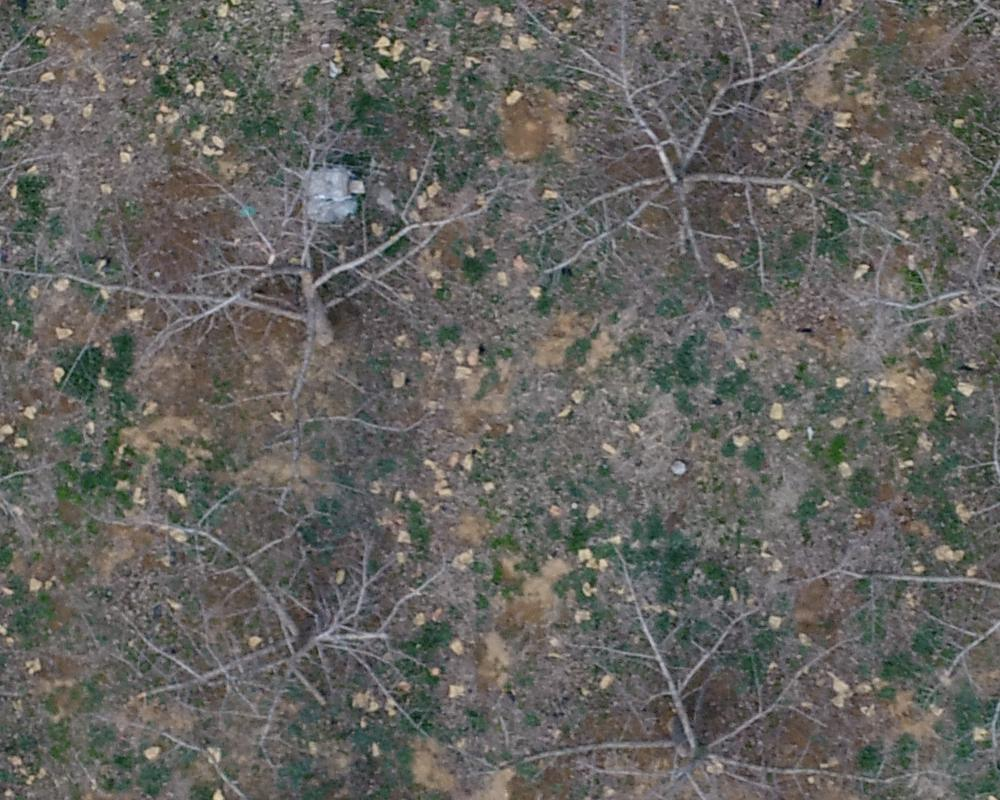apple: (481, 10, 865, 321), (68, 135, 477, 405), (92, 489, 478, 775), (501, 545, 894, 790)
